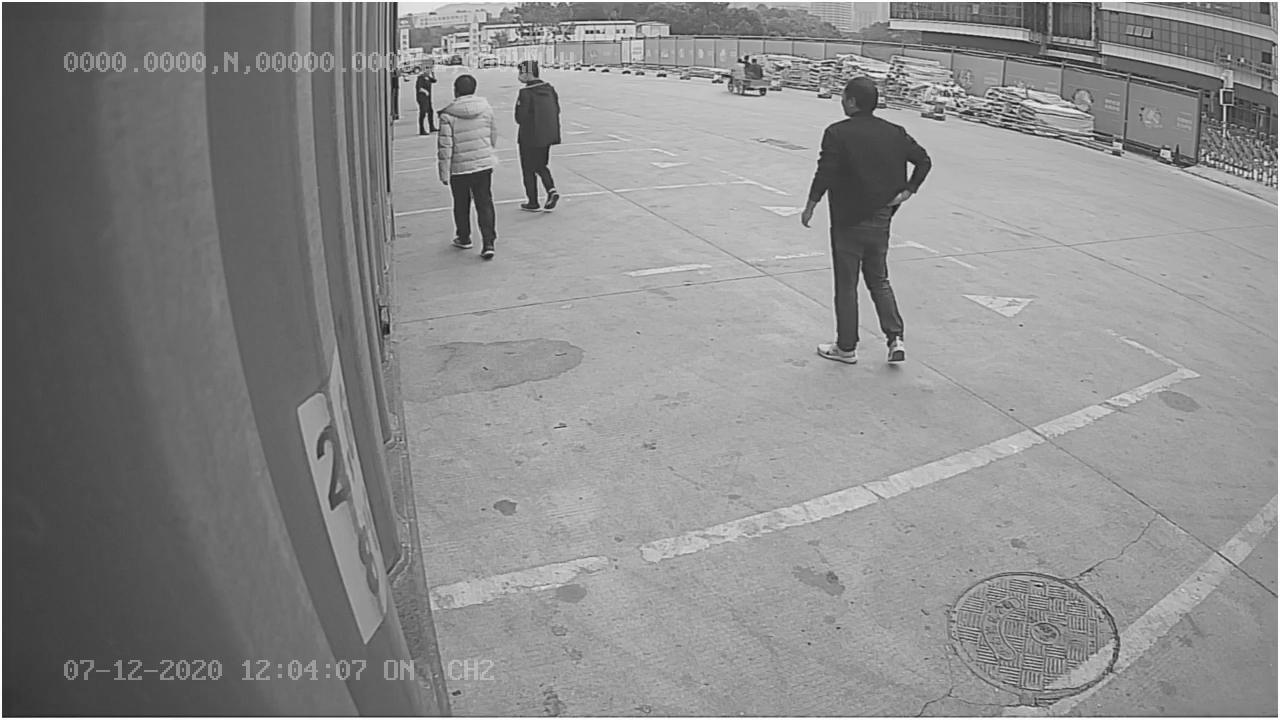person: (802, 71, 933, 367)
